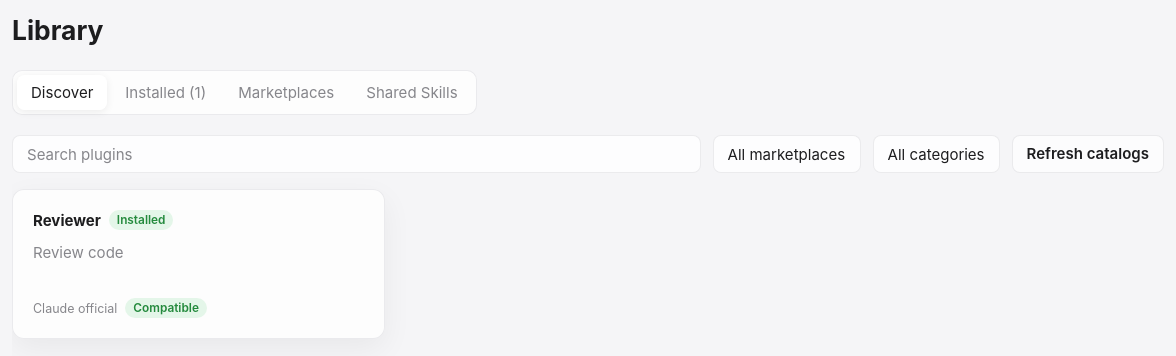
Test: PluginsTab › refreshes marketplace installed state when returning to Discover
This screenshot has width=1176, height=356.
What coordinates should you click on to do the following:
click the tab "Installed (1)"
I would click on:
 (166, 92)
Its box is [111,75,220,110].
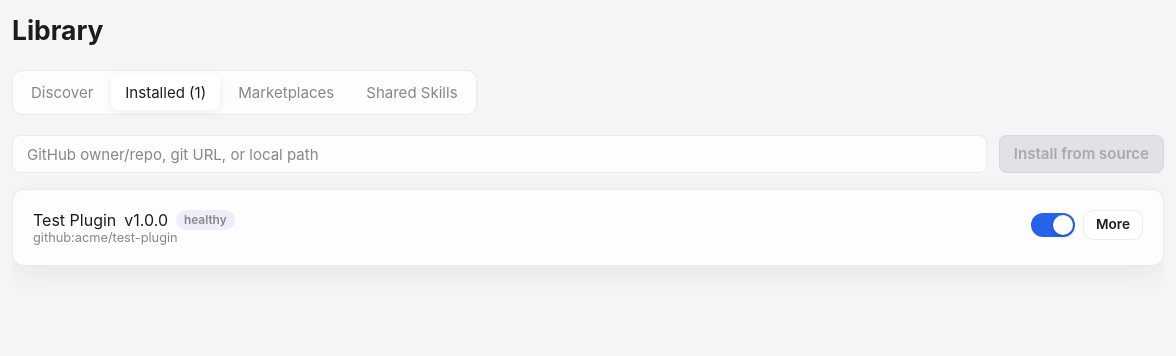
What coordinates should you click on to do the following:
click the tab "Discover"
I would click on:
 (62, 92)
Its box is [17,75,107,110].
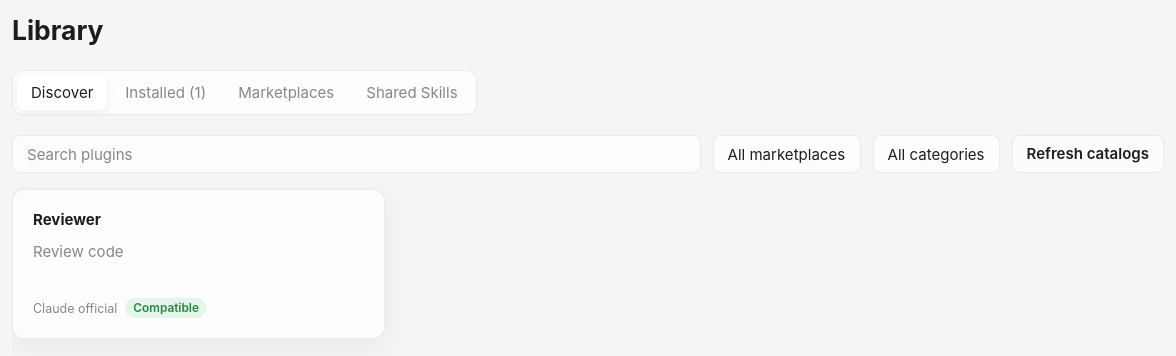
Result: the text "Reviewer" is shown at [33,210,101,229]
